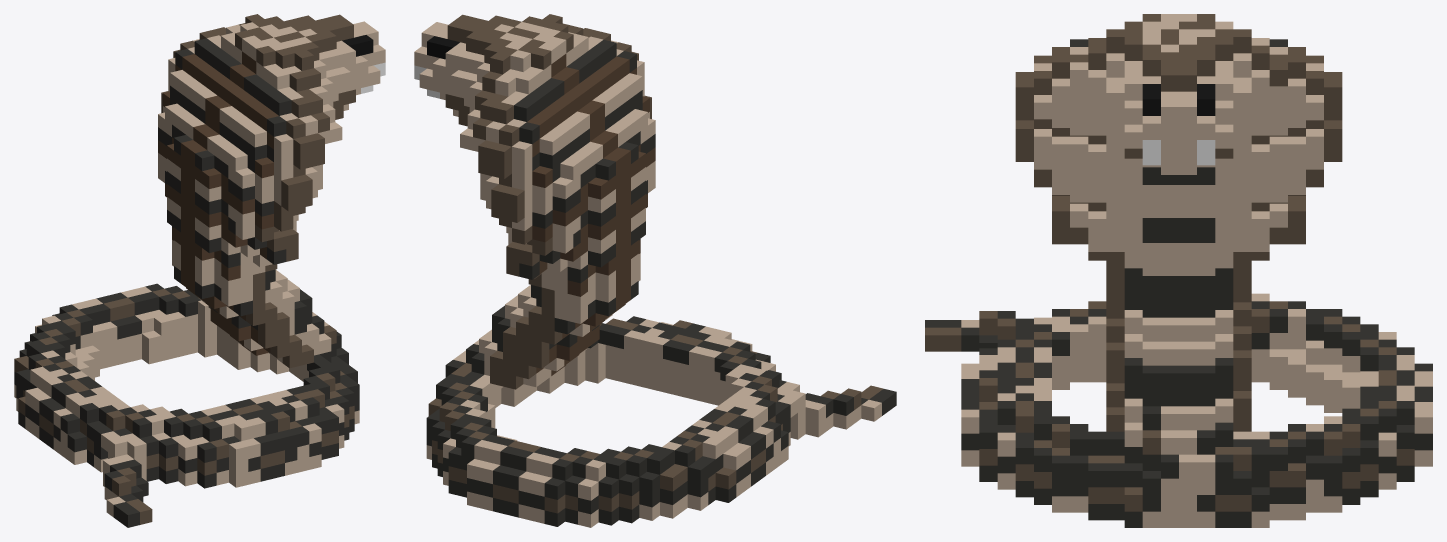
File: Snake.obj
The picture shows the model from 3 angles, left to right: view 1: azimuth 30°, elevation 25°; view 2: azimuth 150°, elevation 25°; view 3: azimuth 270°, elevation 25°; orthographic projection. The views are drawn at different scales.
Bounding box in the file's own units: 2.8 × 2.8 × 2.8.
1 material, 1 textured.
